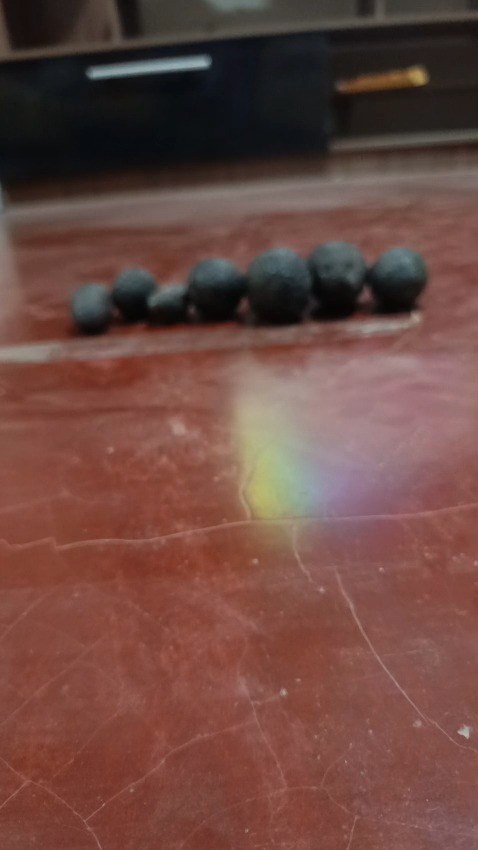Primera: (246, 247, 311, 324), (307, 240, 367, 317)
Segunda: (368, 246, 427, 314), (187, 256, 245, 321), (111, 266, 157, 321)
Tercera: (70, 282, 111, 334), (148, 284, 189, 324)
